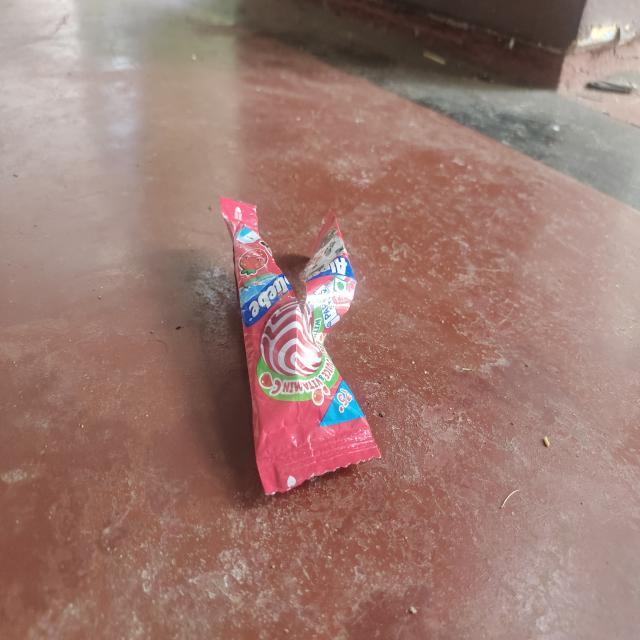plastic: (220, 191, 385, 497)
